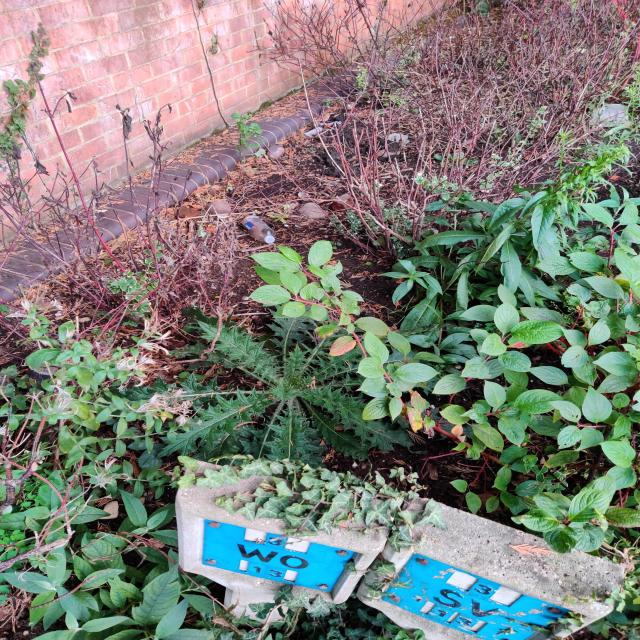litter: (240, 215, 278, 245)
